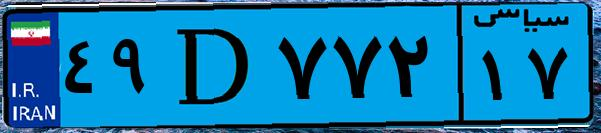1: (475, 38, 525, 113)
2: (385, 28, 445, 110)
4: (57, 26, 110, 100)
7: (270, 28, 330, 110), (330, 28, 385, 110), (525, 38, 570, 115)
9: (110, 28, 158, 98)
D: (158, 12, 270, 120)
